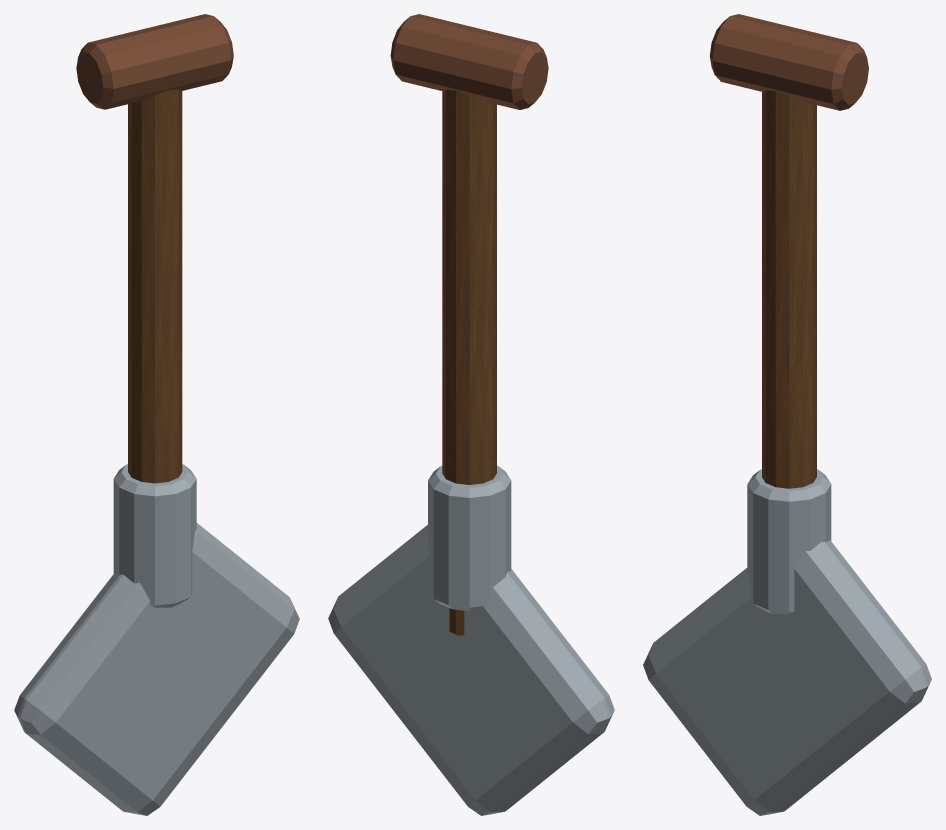
Rendered from shovel.glb.
The picture shows the model from 3 angles, left to right: view 1: azimuth 30°, elevation 25°; view 2: azimuth 150°, elevation 25°; view 3: azimuth 330°, elevation 25°; orthographic projection.
Parts seen in each view (by area): view 1: Shovel blade, Shovel handle, Shovel grip, Shovel collar; view 2: Shovel blade, Shovel handle, Shovel grip, Shovel collar; view 3: Shovel blade, Shovel handle, Shovel grip, Shovel collar.
Boxes of the visible parts, x1,y1,x2,y2 form: Shovel blade: (14, 523, 299, 815); Shovel handle: (128, 89, 182, 483); Shovel grip: (76, 14, 233, 109); Shovel collar: (113, 464, 196, 607); Shovel blade: (328, 525, 614, 815); Shovel handle: (442, 89, 496, 635); Shovel grip: (390, 14, 548, 109); Shovel collar: (428, 466, 511, 611); Shovel blade: (643, 540, 931, 815); Shovel handle: (762, 90, 816, 488); Shovel grip: (709, 14, 868, 110); Shovel collar: (747, 469, 831, 614).
Bounding box in the file's own units: 0.4236 × 1.14 × 0.11.
3 materials, 1 textured.
